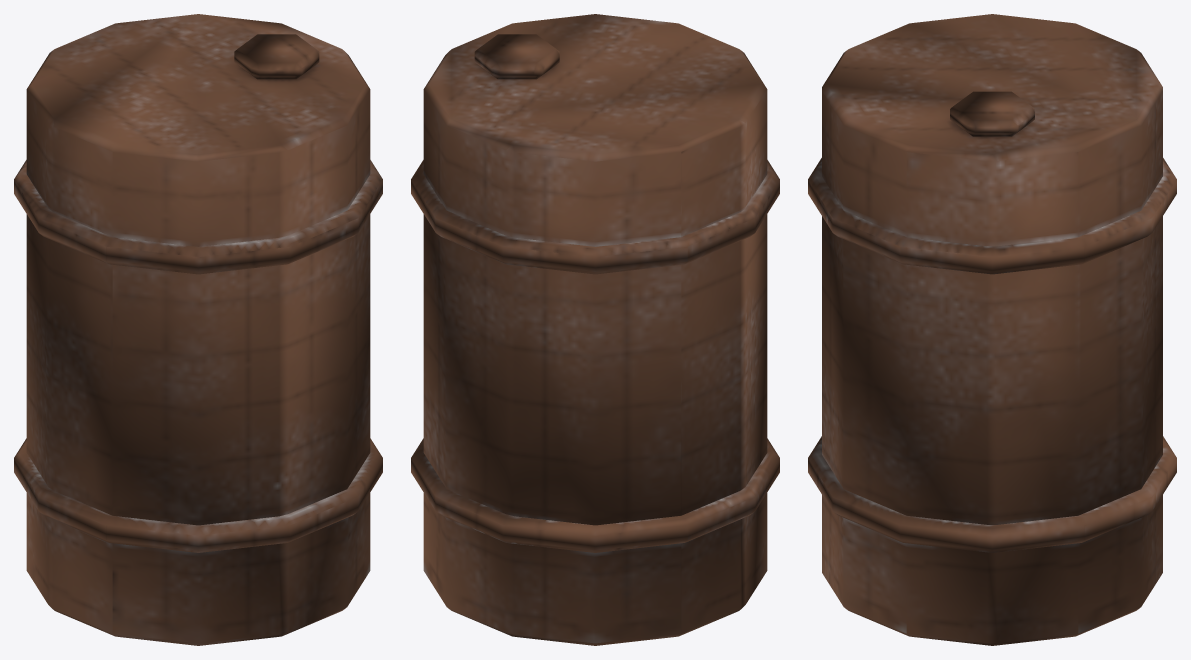
The model's file is Prop_Barril.fbx.
The picture shows the model from 3 angles, left to right: view 1: azimuth 30°, elevation 25°; view 2: azimuth 150°, elevation 25°; view 3: azimuth 270°, elevation 25°; orthographic projection.
Visible parts, largest first — view 1: Prop_Barril; view 2: Prop_Barril; view 3: Prop_Barril.
Boxes of the visible parts, left/top/right/bottom form: Prop_Barril: left=14, top=14, right=382, bottom=645; Prop_Barril: left=411, top=14, right=779, bottom=645; Prop_Barril: left=808, top=14, right=1176, bottom=645.
Bounding box in the file's own units: 2.04 × 3.1 × 2.04.
